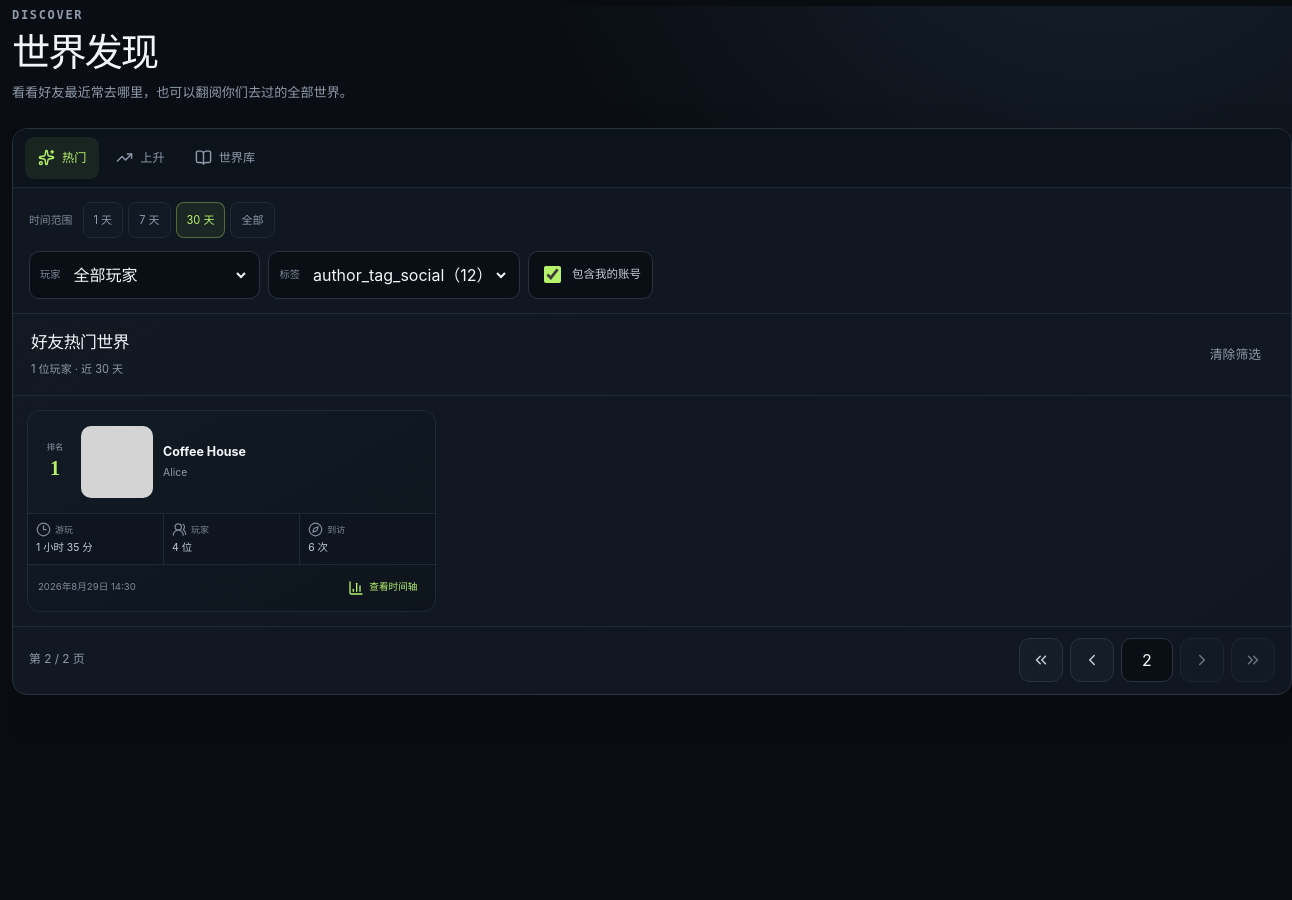
Test: DiscoveryView › keeps tab and filter state in the hash when opening the world library
Expected: the text "Coffee House" is shown, x1=163 y1=444 x2=246 y2=459
Click the tab "世界库" at point(225, 158), box x1=182 y1=137 x2=268 y2=179
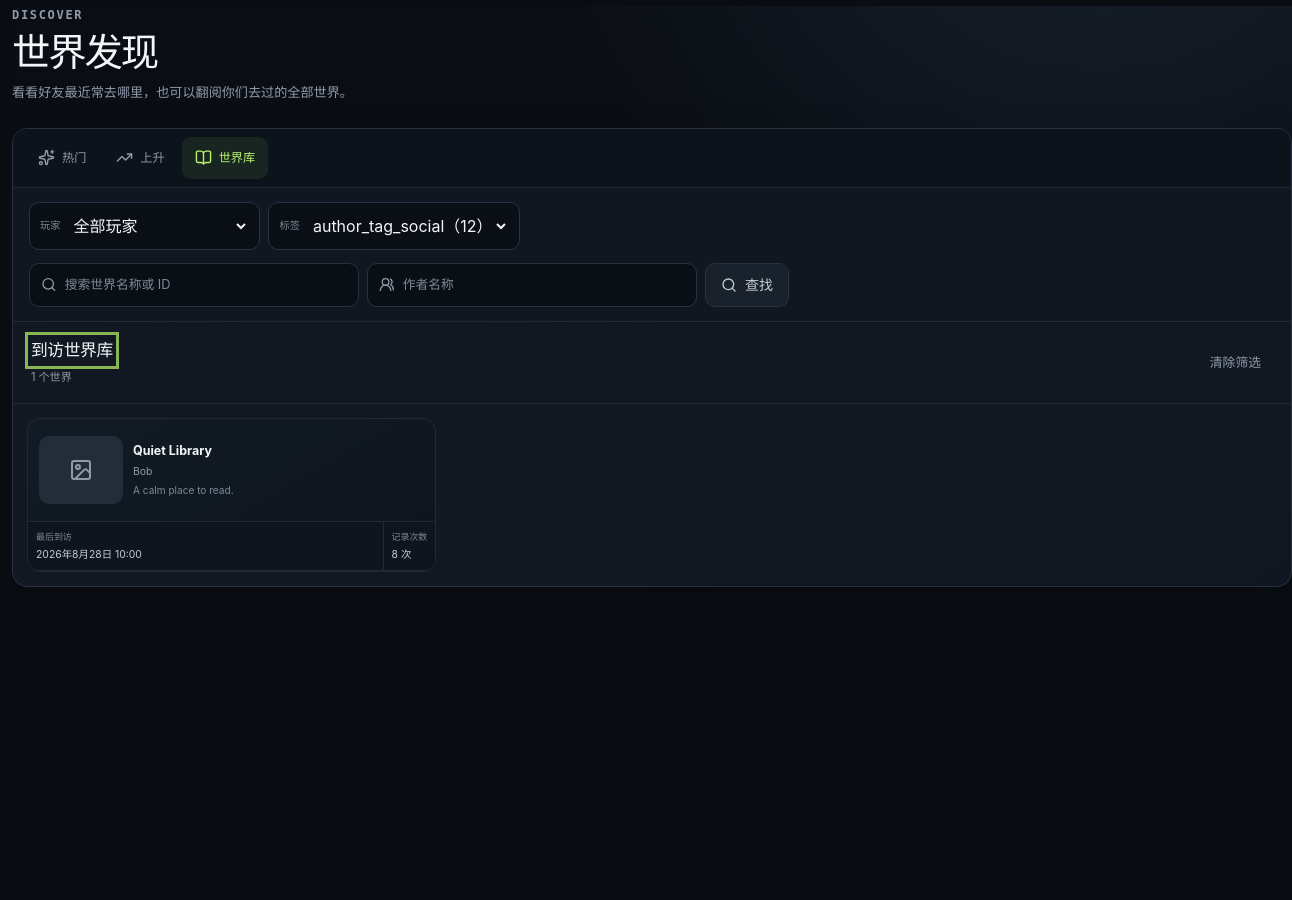
Expected: the text "Quiet Library" is shown, x1=133 y1=443 x2=212 y2=458
